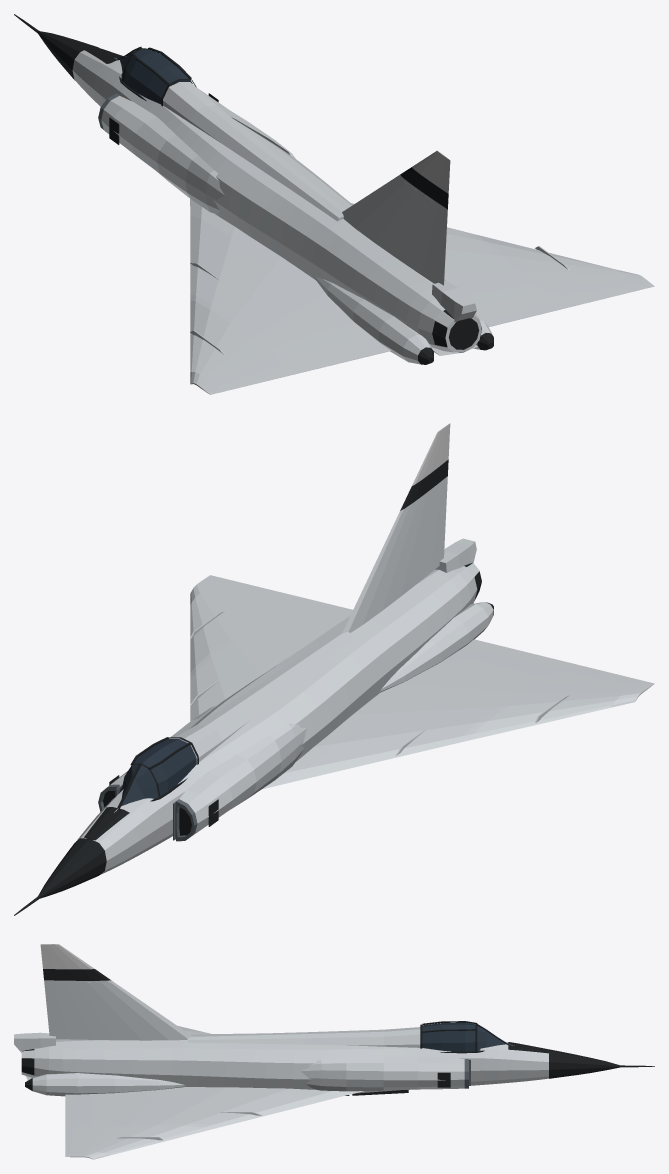
3 views of the same model, one above another, from view 1: azimuth 30°, elevation 25°; view 2: azimuth 150°, elevation 25°; view 3: azimuth 270°, elevation 25° (orthographic). The views are drawn at different scales.
Visible parts, largest first — view 1: Fuselage, Wing L, Wing R, Vertical Fin, Intake Cheeks, Dorsal Spine, Area Rule Fairings, Flap L, Cockpit Glass, Flap R, Rudder, Aileron R (+5 smaller); view 2: Fuselage, Wing L, Wing R, Vertical Fin, Intake Cheeks, Dorsal Spine, Area Rule Fairings, Cockpit Glass, Radome, Flap L, Rudder, Flap R (+5 smaller); view 3: Fuselage, Wing R, Vertical Fin, Intake Cheeks, Dorsal Spine, Area Rule Fairings, Cockpit Glass, Rudder, Radome, Flap R, Aileron R, Speed Brakes (+1 smaller).
Boxes of the visible parts, <box> form: Fuselage: <box>72,50,481,352</box>; Wing L: <box>190,199,391,394</box>; Wing R: <box>351,203,654,308</box>; Vertical Fin: <box>342,150,450,270</box>; Intake Cheeks: <box>101,88,295,213</box>; Dorsal Spine: <box>163,82,345,221</box>; Area Rule Fairings: <box>314,277,492,364</box>; Flap L: <box>276,333,379,372</box>; Cockpit Glass: <box>120,49,192,104</box>; Flap R: <box>475,288,564,326</box>; Rudder: <box>414,203,447,285</box>; Aileron R: <box>547,279,642,306</box>; Fuselage: <box>76,563,479,874</box>; Wing L: <box>262,639,654,789</box>; Wing R: <box>190,575,333,720</box>; Vertical Fin: <box>342,423,450,633</box>; Intake Cheeks: <box>110,705,307,837</box>; Dorsal Spine: <box>173,630,353,763</box>; Area Rule Fairings: <box>380,602,493,692</box>; Cockpit Glass: <box>121,739,196,805</box>; Radome: <box>38,838,106,898</box>; Flap L: <box>461,642,564,677</box>; Rudder: <box>419,479,447,581</box>; Flap R: <box>276,597,352,626</box>; Fuselage: <box>21,1033,548,1093</box>; Wing R: <box>65,1087,363,1159</box>; Vertical Fin: <box>40,944,192,1040</box>; Intake Cheeks: <box>300,1056,464,1091</box>; Dorsal Spine: <box>187,1027,420,1047</box>; Area Rule Fairings: <box>32,1073,185,1096</box>; Cockpit Glass: <box>422,1022,505,1051</box>; Rudder: <box>44,982,87,1039</box>; Radome: <box>549,1049,620,1078</box>; Flap R: <box>65,1097,99,1125</box>; Aileron R: <box>65,1127,99,1152</box>; Speed Brakes: <box>14,1032,55,1052</box>.
Bounding box in the file's own units: 11.6 × 5.19 × 20.55.
